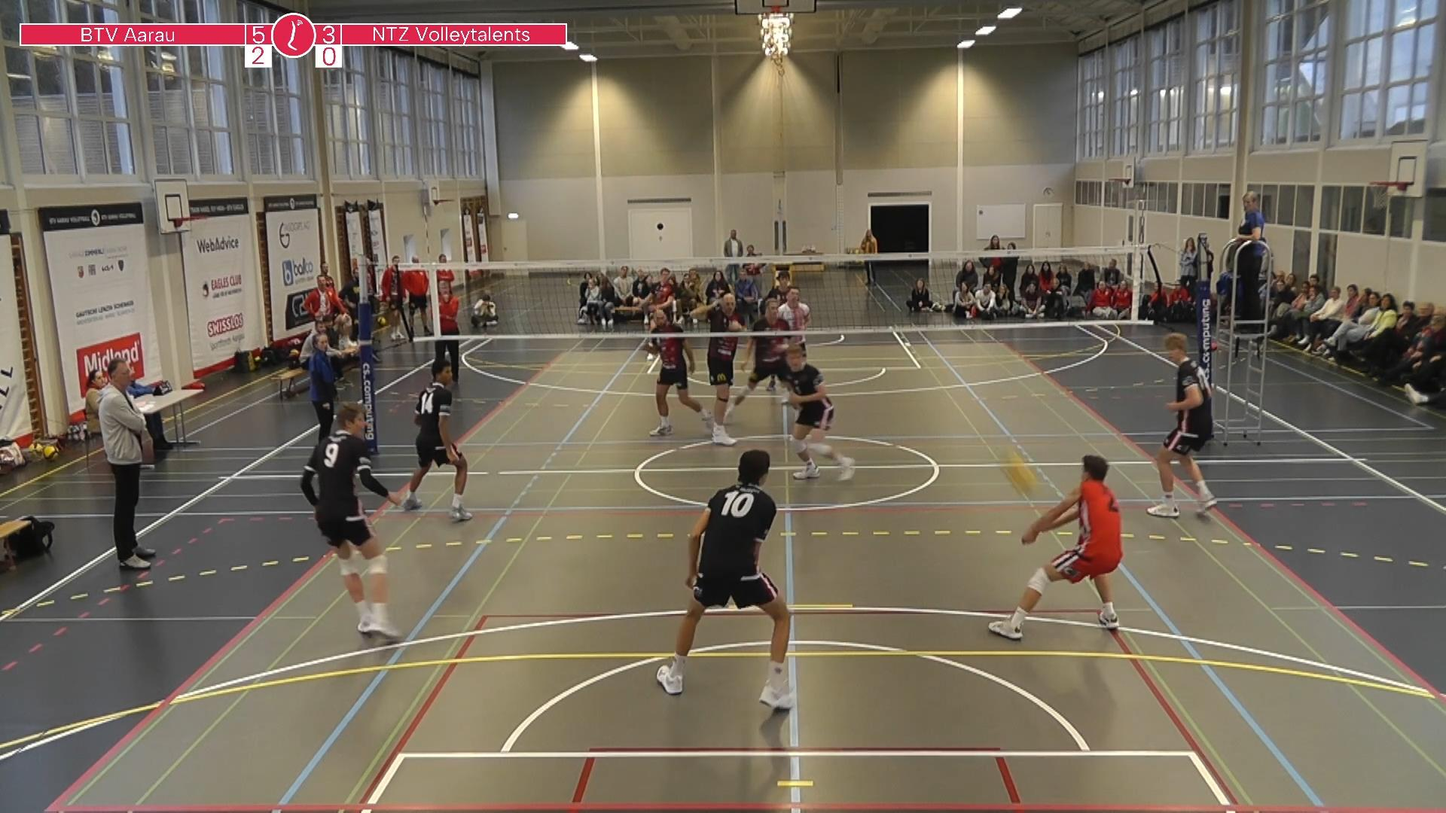ricezione: (979, 452, 1118, 641)
